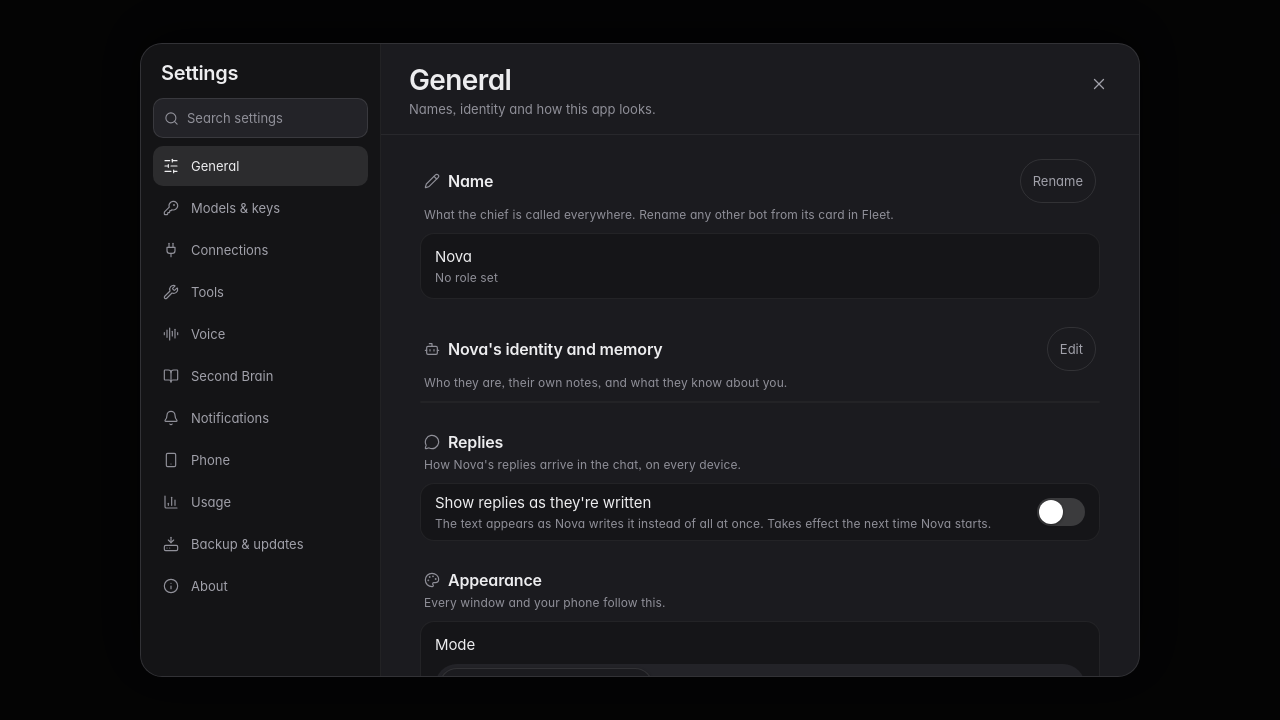
Test: settings search › finds a page by the words it covers, and Enter opens the first match
The width and height of the screenshot is (1280, 720).
In the search field labelled "Search settings": (272, 118) [187,109,357,127], type "microphone"
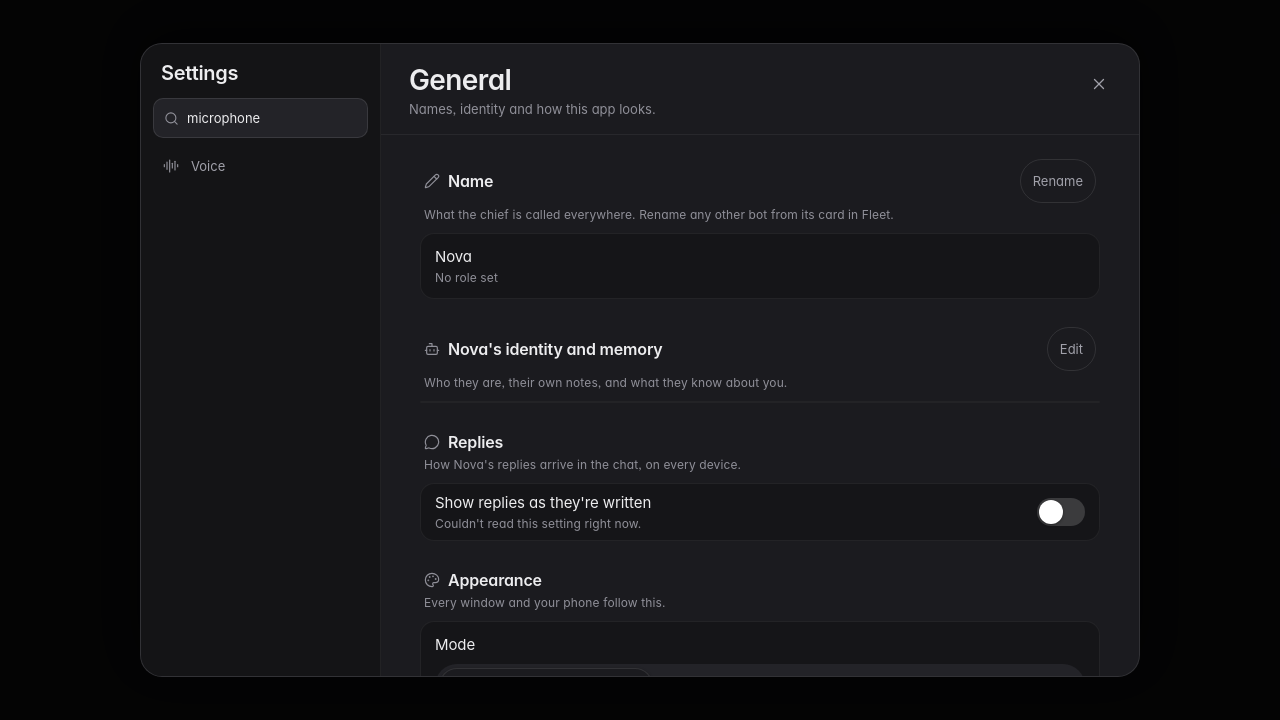
Press Enter in the search field named "Search settings", box [187,109,357,127]
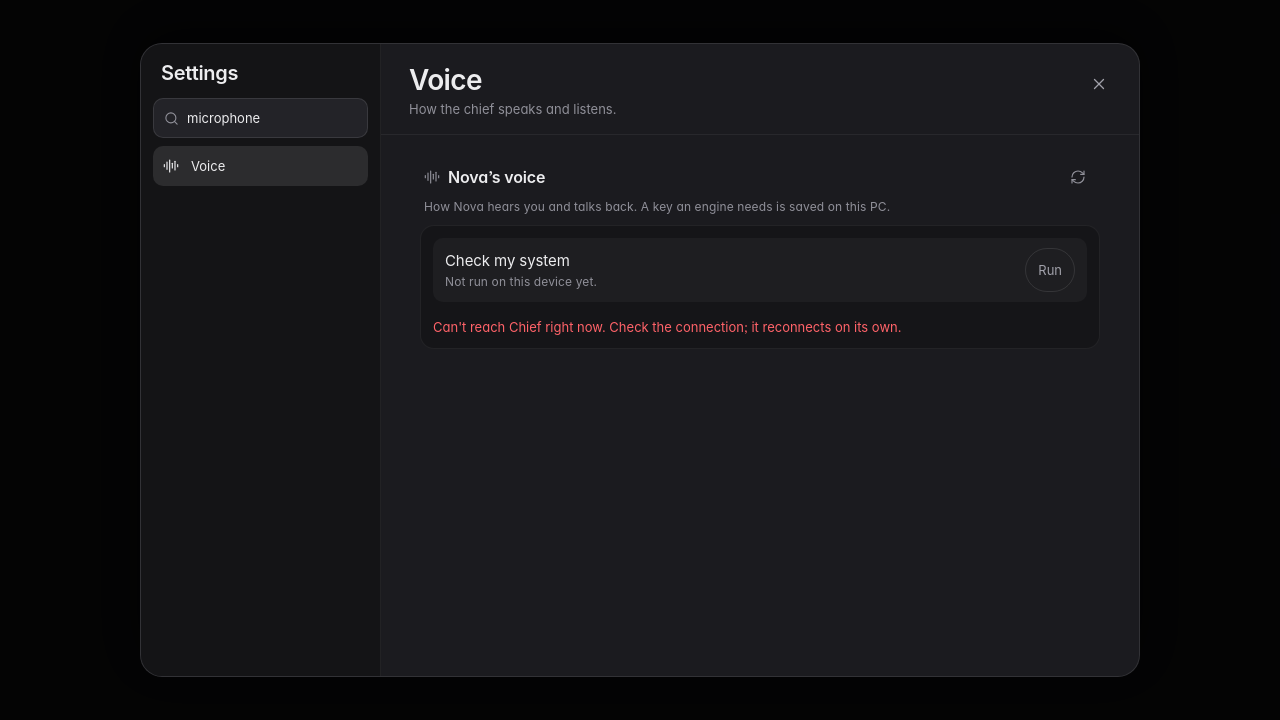
Check: the heading "Voice" is shown, box [409,63,482,97]
Replace the text in the search field named "Search settings" with "zzzz": (272, 118) [187,109,357,127]
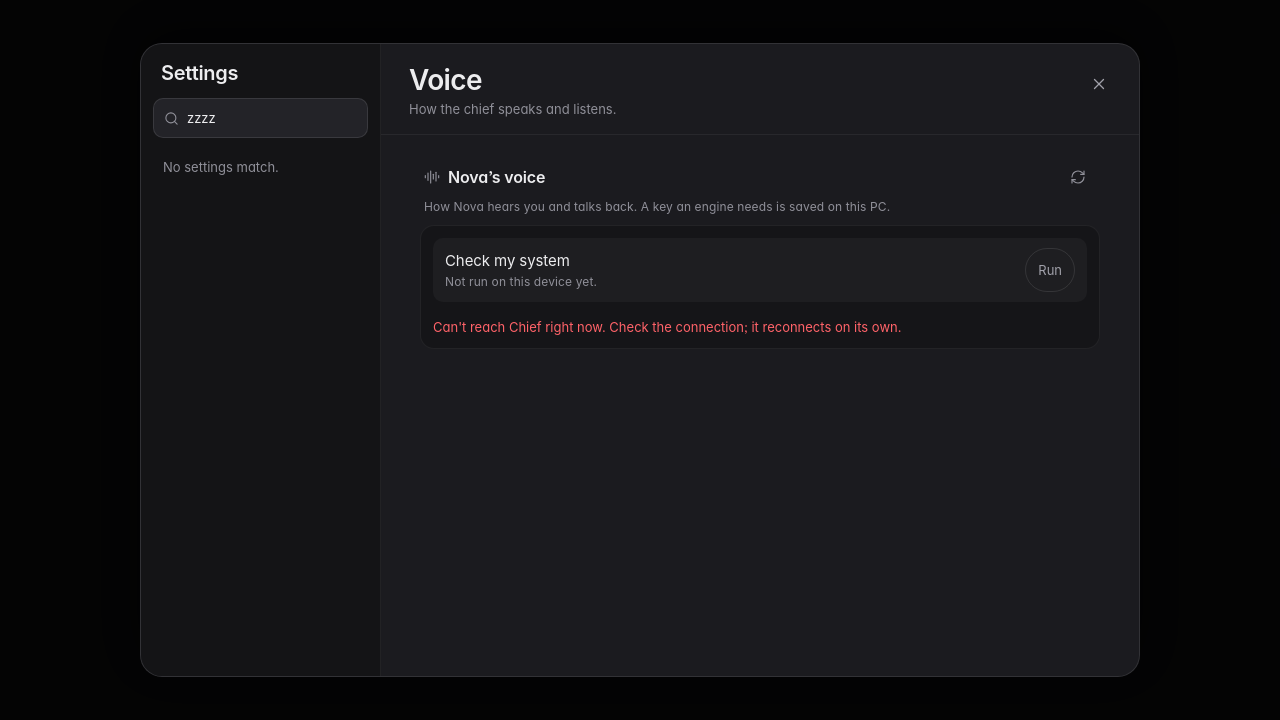
Check: the text "No settings match." is shown, box [163,159,279,175]
